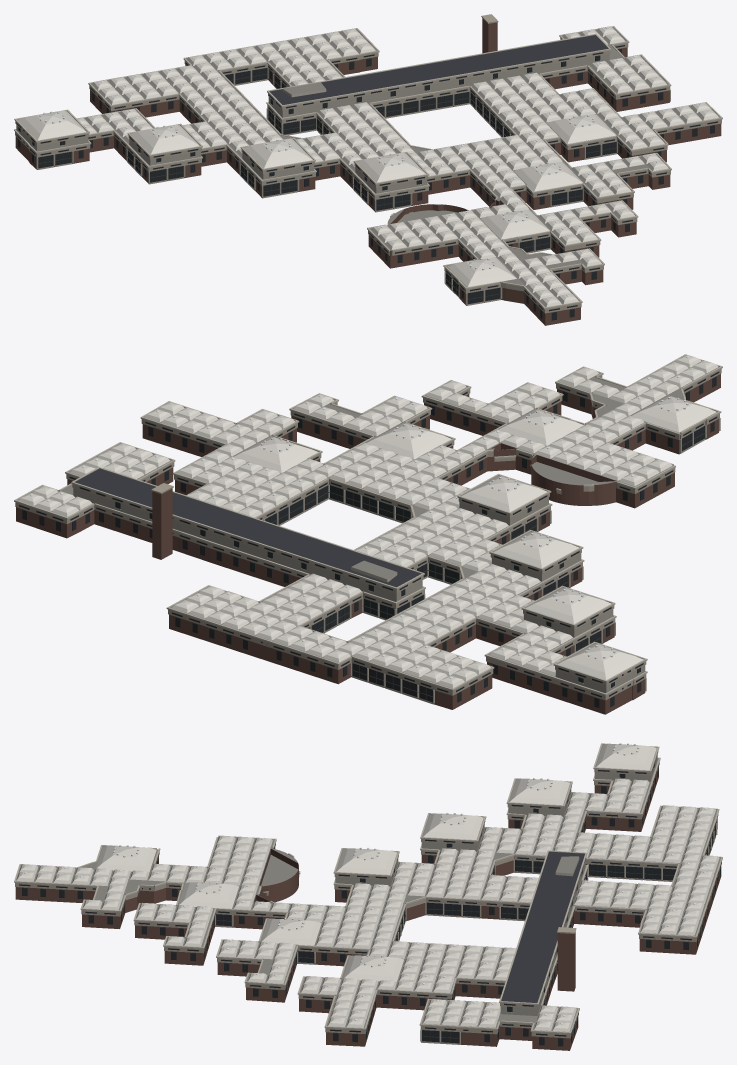
File: burgerweeshuis-van-eyck.glb
The picture shows the model from 3 angles, top to bottom: view 1: azimuth 30°, elevation 25°; view 2: azimuth 150°, elevation 25°; view 3: azimuth 270°, elevation 25°; orthographic projection. The views are drawn at different scales.
Visible parts, largest first — view 1: burgerweeshuis-van-eyck; view 2: burgerweeshuis-van-eyck; view 3: burgerweeshuis-van-eyck.
Part boxes in pixels (x1=…): burgerweeshuis-van-eyck: x1=14, y1=14, x2=722, y2=325; burgerweeshuis-van-eyck: x1=14, y1=354, x2=722, y2=714; burgerweeshuis-van-eyck: x1=14, y1=743, x2=722, y2=1050.
Bounding box in the file's own units: 119 × 11.74 × 128.
